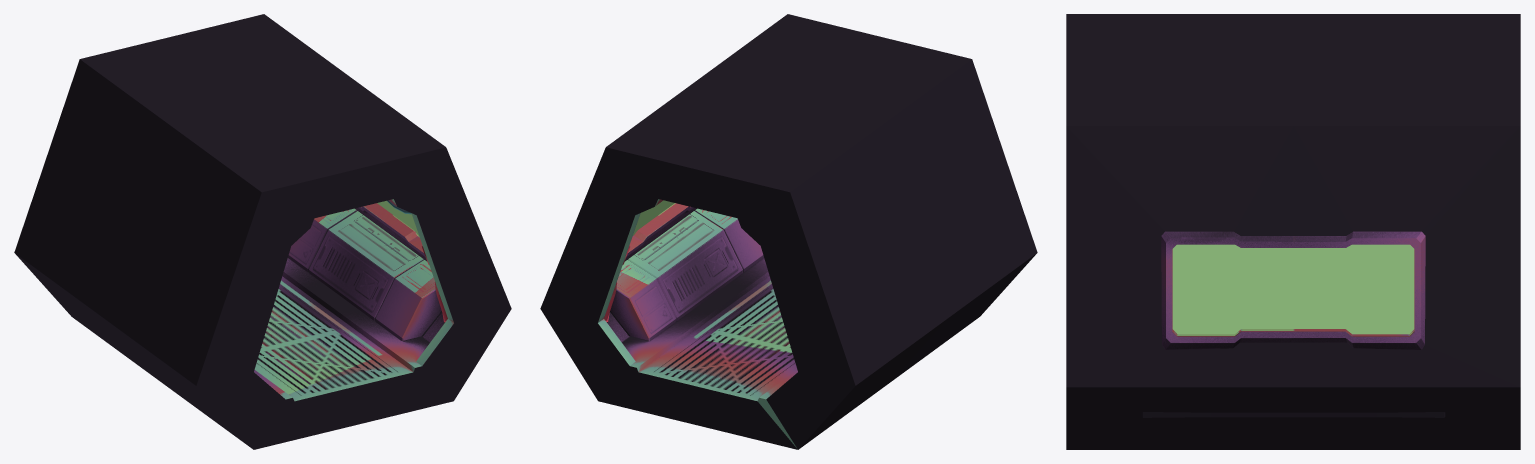
The model's file is mod_Straight_1.glb.
3 renders of one model, left to right at view 1: azimuth 30°, elevation 25°; view 2: azimuth 150°, elevation 25°; view 3: azimuth 270°, elevation 25°, orthographic. The views are drawn at different scales.
Parts seen in each view (by area): view 1: Plane.031, Plane.068; view 2: Plane.031, Plane.068; view 3: Plane.031, Plane.068.
Boxes of the visible parts, <box> form: Plane.031: <box>14,14,511,449</box>; Plane.068: <box>288,208,441,340</box>; Plane.031: <box>540,14,1037,449</box>; Plane.068: <box>610,208,763,340</box>; Plane.031: <box>1066,14,1520,449</box>; Plane.068: <box>1141,412,1445,417</box>.
Size of the model in its own units: 5 by 3.88 by 5.
2 materials, 2 textured.
